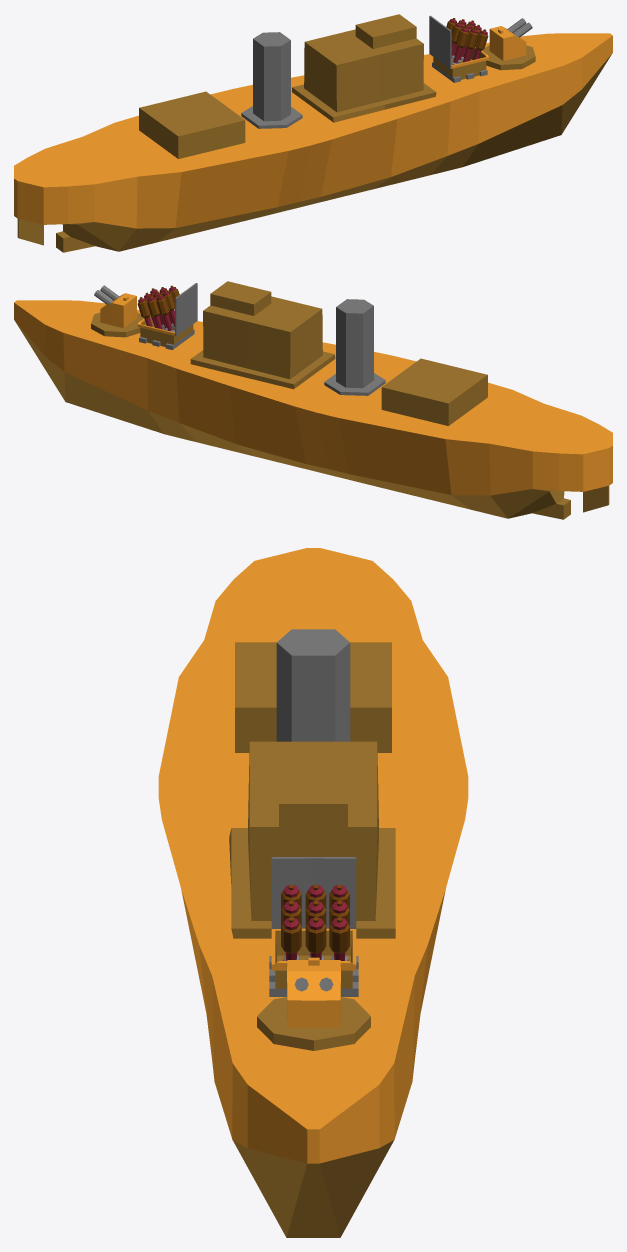
Rendered from Ship_HMCS_Sackville_Variation.obj.
3 renders of one model, top to bottom at view 1: azimuth 30°, elevation 25°; view 2: azimuth 150°, elevation 25°; view 3: azimuth 270°, elevation 25°, orthographic. The views are drawn at different scales.
Visible parts, largest first — view 1: HMCS-Sackville; view 2: HMCS-Sackville; view 3: HMCS-Sackville.
Part boxes in pixels (box(x1,y1,x2,y2)): HMCS-Sackville: box(14, 14, 612, 252); HMCS-Sackville: box(14, 281, 612, 519); HMCS-Sackville: box(158, 548, 468, 1237).
Bounding box in the file's own units: 4.73 × 1.26 × 1.07.
3 materials, 3 textured.
